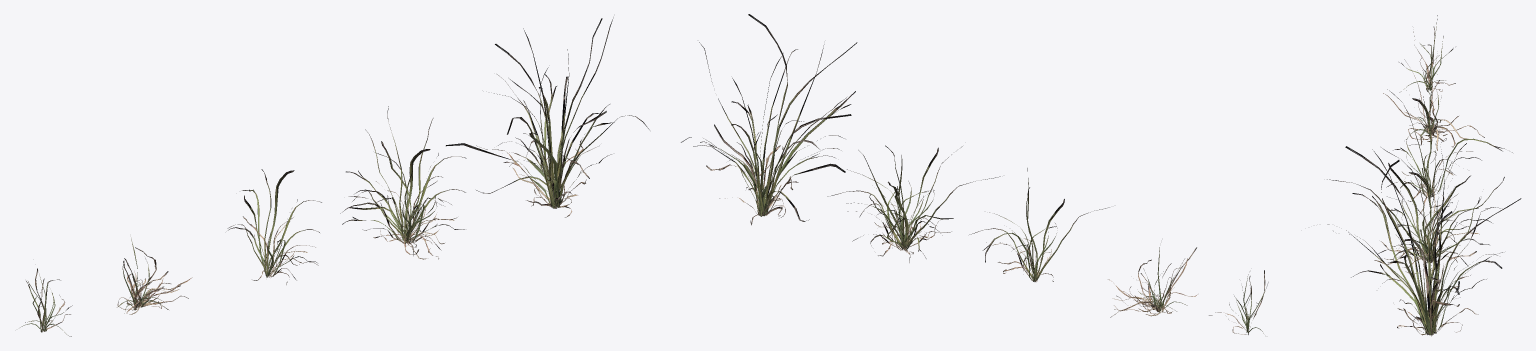
Rendered from grass_medium_02_1k_lo.glb.
3 views of the same model, side by side, from view 1: azimuth 30°, elevation 25°; view 2: azimuth 150°, elevation 25°; view 3: azimuth 270°, elevation 25° (orthographic). The views are drawn at different scales.
Parts seen in each view (by area): view 1: grass_medium_02_e, grass_medium_02_d, grass_medium_02_c, grass_medium_02_b, grass_medium_02_a; view 2: grass_medium_02_e, grass_medium_02_d, grass_medium_02_c, grass_medium_02_b, grass_medium_02_a; view 3: grass_medium_02_e, grass_medium_02_d, grass_medium_02_c, grass_medium_02_b, grass_medium_02_a.
Boxes of the visible parts, x1=… form: grass_medium_02_e: x1=446, y1=17, x2=649, y2=217; grass_medium_02_d: x1=340, y1=106, x2=466, y2=259; grass_medium_02_c: x1=227, y1=169, x2=321, y2=284; grass_medium_02_b: x1=117, y1=238, x2=192, y2=314; grass_medium_02_a: x1=20, y1=268, x2=72, y2=336; grass_medium_02_e: x1=681, y1=14, x2=857, y2=225; grass_medium_02_d: x1=827, y1=145, x2=1000, y2=262; grass_medium_02_c: x1=969, y1=168, x2=1109, y2=281; grass_medium_02_b: x1=1108, y1=247, x2=1197, y2=317; grass_medium_02_a: x1=1209, y1=270, x2=1268, y2=334; grass_medium_02_e: x1=1327, y1=146, x2=1521, y2=336; grass_medium_02_d: x1=1327, y1=143, x2=1504, y2=273; grass_medium_02_c: x1=1386, y1=89, x2=1512, y2=214; grass_medium_02_b: x1=1383, y1=58, x2=1484, y2=150; grass_medium_02_a: x1=1399, y1=15, x2=1455, y2=92.
Size of the model in its own units: 1.31 by 0.4053 by 0.4326.
Materials: 1 (1 with a texture image).
